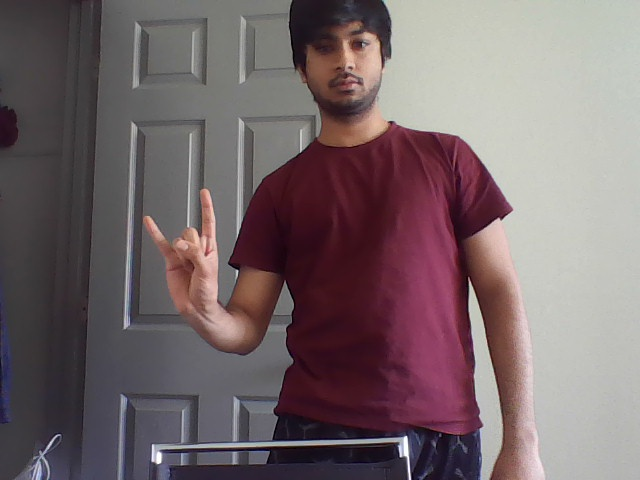help: (132, 184, 232, 259)
